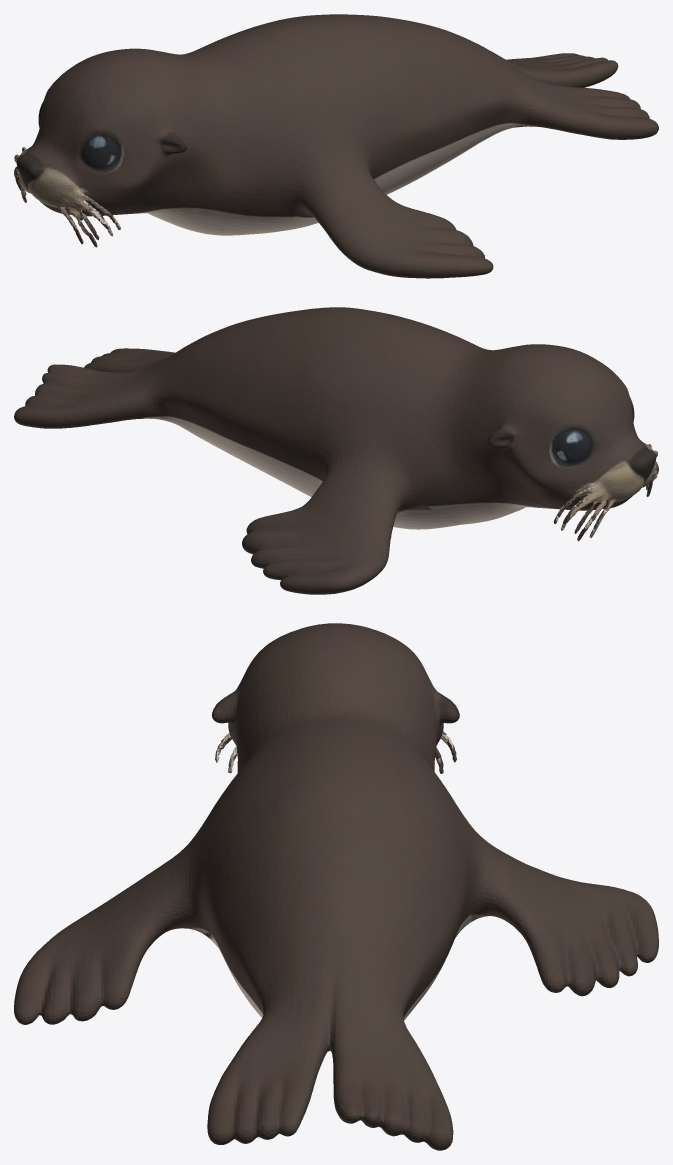
The model's file is reggie_charge.glb.
The picture shows the model from 3 angles, top to bottom: view 1: azimuth 30°, elevation 25°; view 2: azimuth 150°, elevation 25°; view 3: azimuth 270°, elevation 25°; orthographic projection. The views are drawn at different scales.
Parts seen in each view (by area): view 1: tmp_6gu0cdl.ply; view 2: tmp_6gu0cdl.ply; view 3: tmp_6gu0cdl.ply.
Boxes of the visible parts, x1=… form: tmp_6gu0cdl.ply: x1=14, y1=14, x2=658, y2=278; tmp_6gu0cdl.ply: x1=14, y1=307, x2=658, y2=594; tmp_6gu0cdl.ply: x1=14, y1=623, x2=658, y2=1150.
Size of the model in its own units: 1.99 by 0.622 by 1.44.
1 material, 1 textured.
